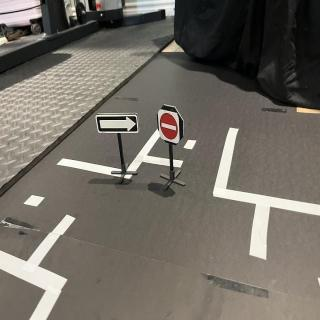sign_noentry: (159, 110, 182, 145)
sign_oneway_right: (96, 113, 140, 135)
